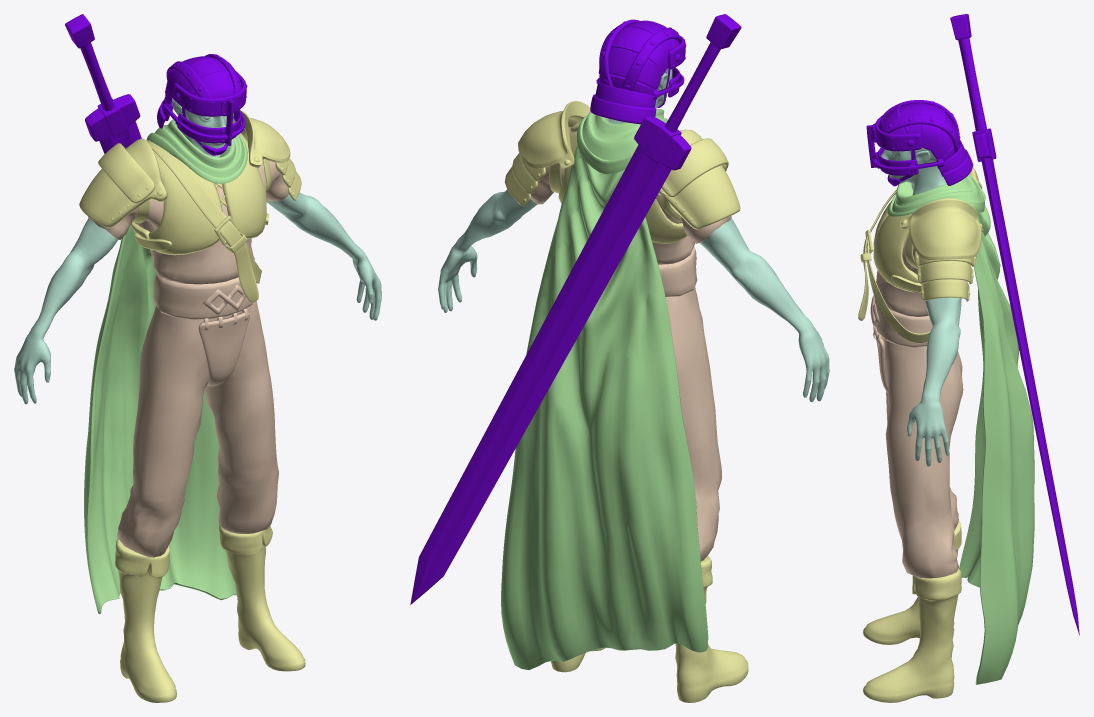
File: Guts_LowPoly.fbx
3 renders of one model, left to right at view 1: azimuth 30°, elevation 25°; view 2: azimuth 150°, elevation 25°; view 3: azimuth 270°, elevation 25°, orthographic. The views are drawn at different scales.
Parts seen in each view (by area): view 1: gutsBody, gutsHelmet, gutsSword; view 2: gutsBody, gutsSword, gutsHelmet; view 3: gutsBody, gutsSword, gutsHelmet.
Part boxes in pixels (x1,y1,x2,y2): gutsBody: [14, 98, 381, 702]; gutsHelmet: [157, 54, 247, 155]; gutsSword: [65, 14, 141, 153]; gutsBody: [438, 68, 829, 702]; gutsSword: [410, 14, 741, 604]; gutsHelmet: [590, 19, 686, 124]; gutsBody: [858, 147, 1034, 702]; gutsSword: [950, 14, 1079, 635]; gutsHelmet: [866, 100, 973, 186].
Bounding box in the file's own units: 114 × 200 × 66.1.
